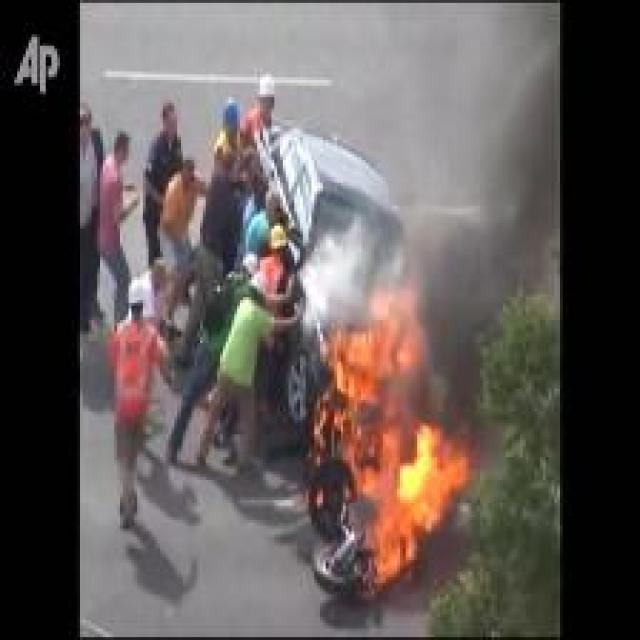Fire: (312, 277, 468, 580)
